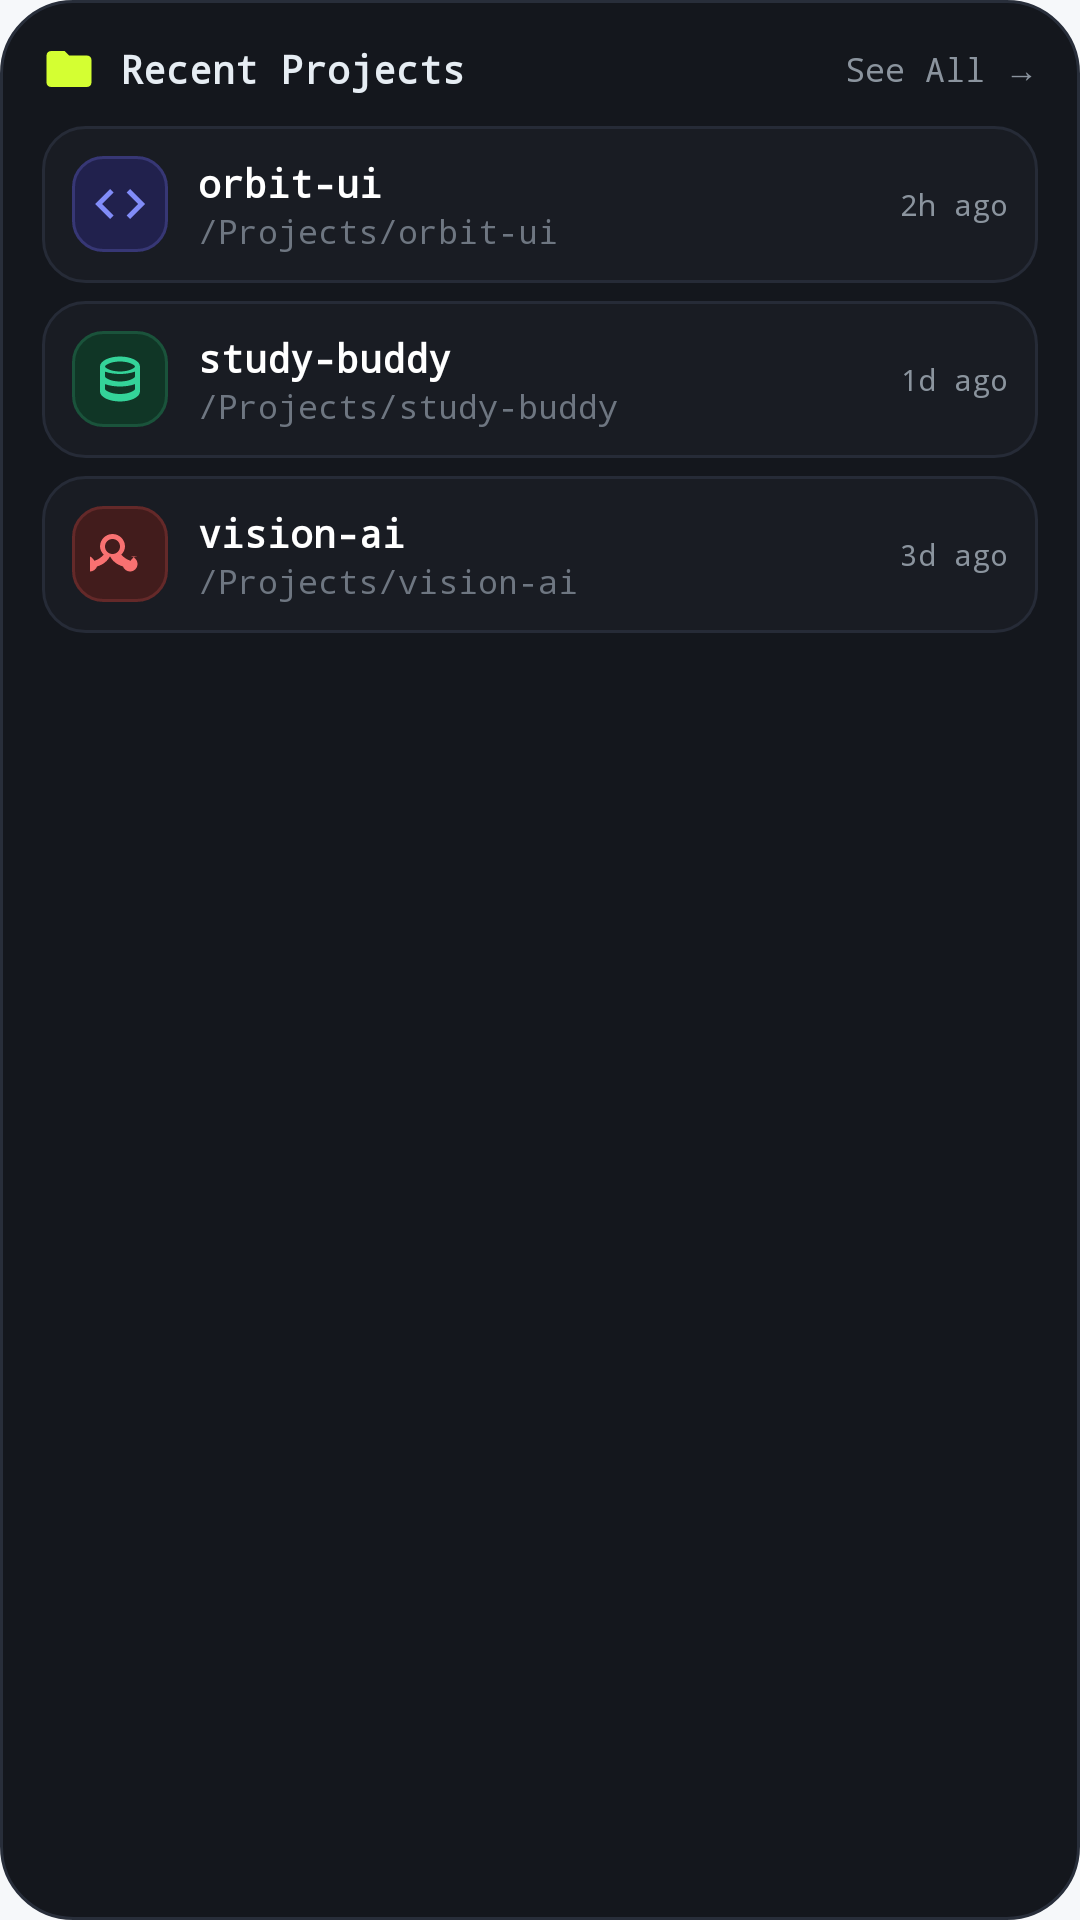

Where icons sit on this 1080px×1920px app screen, as (x1=x1, y1=y1, x2=x2, y2=y2):
widget code: (x1=72, y1=156, x2=168, y2=252)
widget db: (x1=72, y1=331, x2=168, y2=427)
widget folder: (x1=46, y1=51, x2=92, y2=87)
